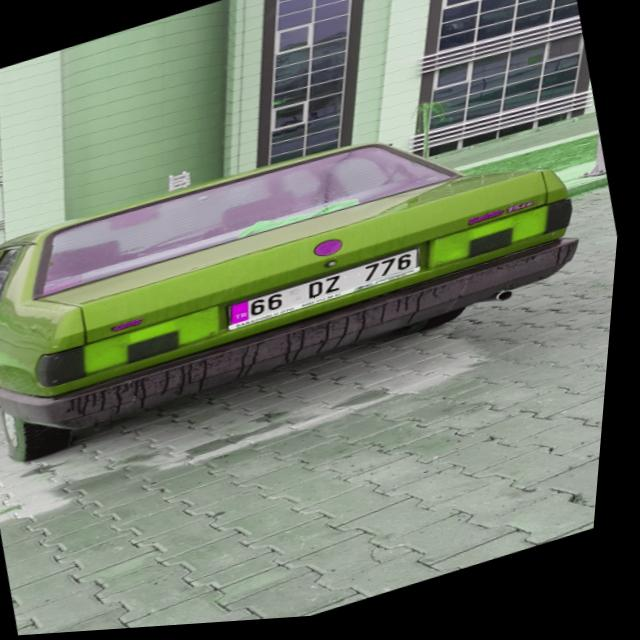license_plate: (229, 252, 427, 329)
